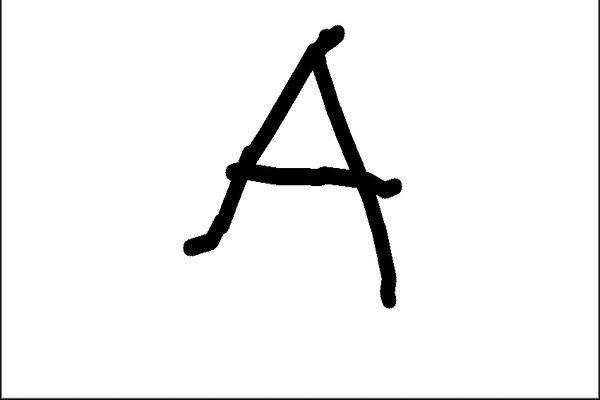A: (176, 15, 406, 317)
